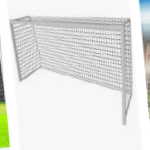goals: (8, 13, 137, 128)
